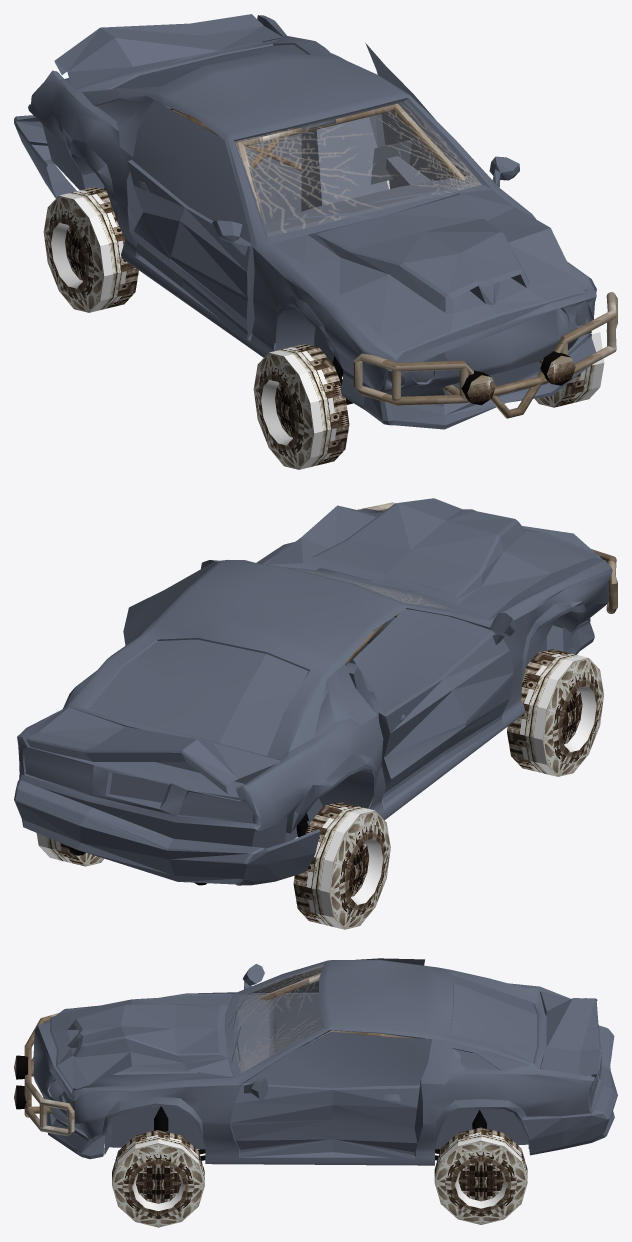
File: carro-mayhem.glb
The picture shows the model from 3 angles, top to bottom: view 1: azimuth 30°, elevation 25°; view 2: azimuth 150°, elevation 25°; view 3: azimuth 270°, elevation 25°; orthographic projection. The views are drawn at different scales.
Visible parts, largest first — view 1: body, wheel_FR, wheel_RR, wheel_FL; view 2: body, wheel_FR, wheel_RR, wheel_RL; view 3: body, wheel_RL, wheel_FL.
Part boxes in pixels (left/top/right/bottom): body: left=14, top=14, right=617, bottom=429; wheel_FR: left=253, top=344, right=349, bottom=469; wheel_RR: left=43, top=187, right=138, bottom=312; wheel_FL: left=535, top=317, right=604, bottom=407; body: left=14, top=498, right=617, bottom=885; wheel_FR: left=507, top=649, right=603, bottom=776; wheel_RR: left=293, top=802, right=390, bottom=929; wheel_RL: left=36, top=833, right=103, bottom=866; body: left=14, top=958, right=617, bottom=1165; wheel_RL: left=434, top=1127, right=527, bottom=1224; wheel_FL: left=112, top=1130, right=204, bottom=1227.
Bounding box in the file's own units: 2.56 × 1.91 × 5.67.
5 materials, 3 textured.
